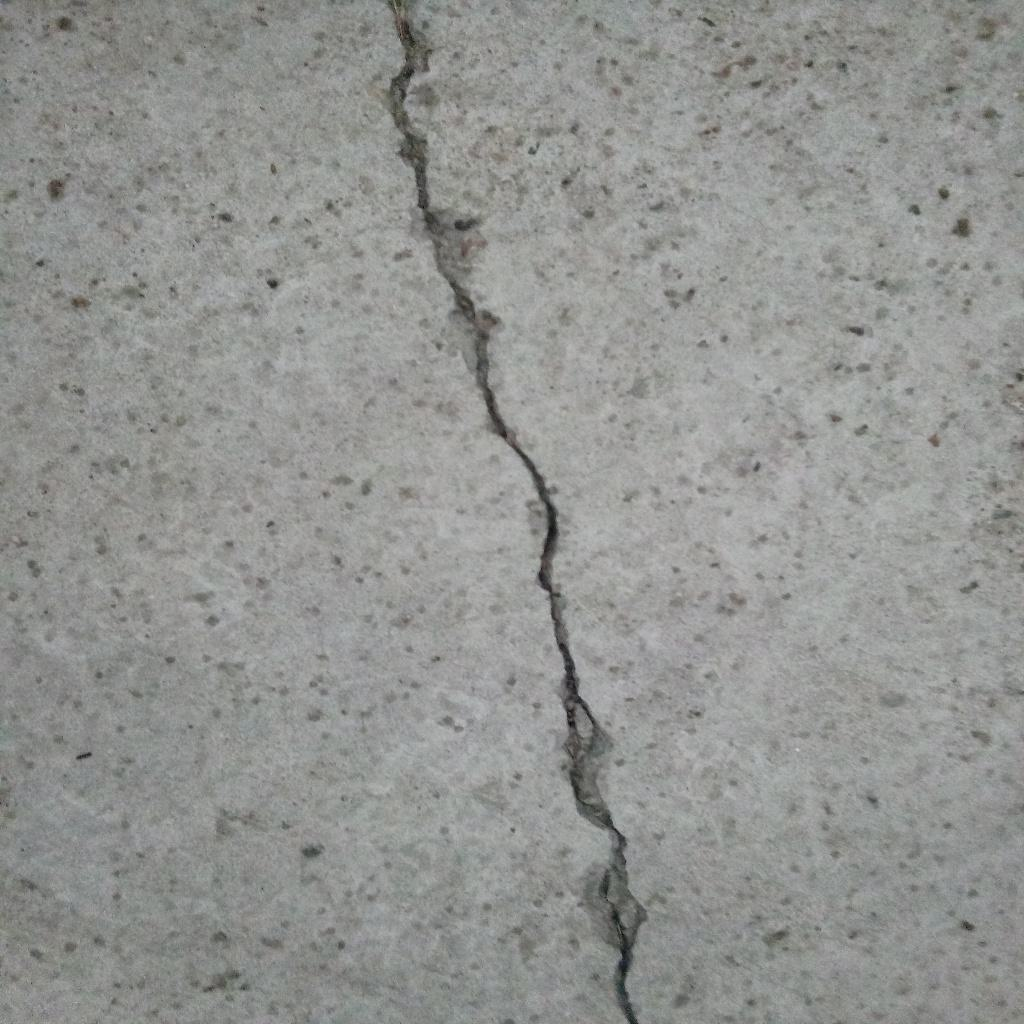Crack: (385, 1, 650, 1024)
